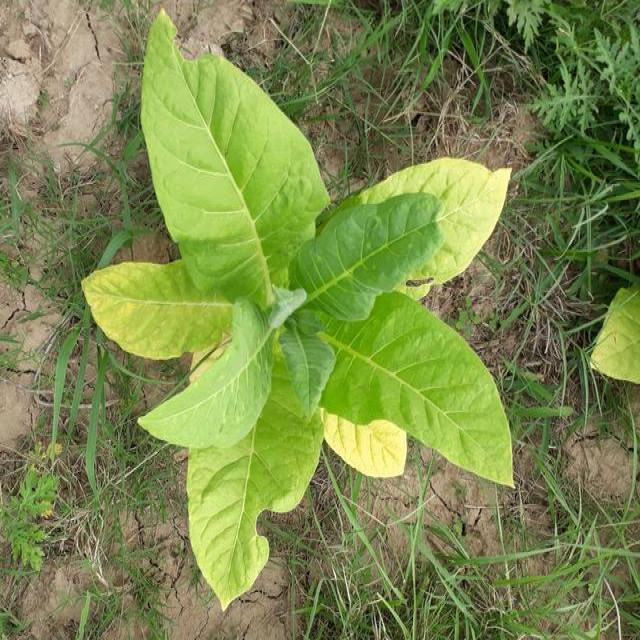crop: (91, 15, 514, 578), (591, 306, 640, 395)
